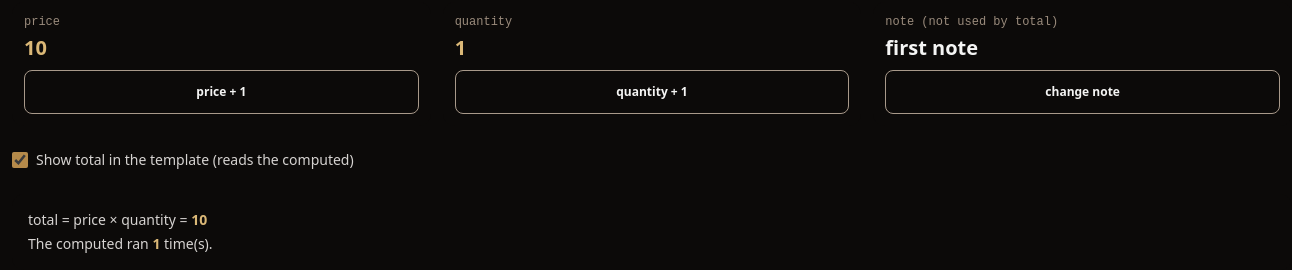
Test: ComputedCacheDemoComponent › does not run again when an unrelated signal changes
This screenshot has width=1292, height=270.
Click the button "change note" at x=1083, y=92, box [885,70,1280,114]
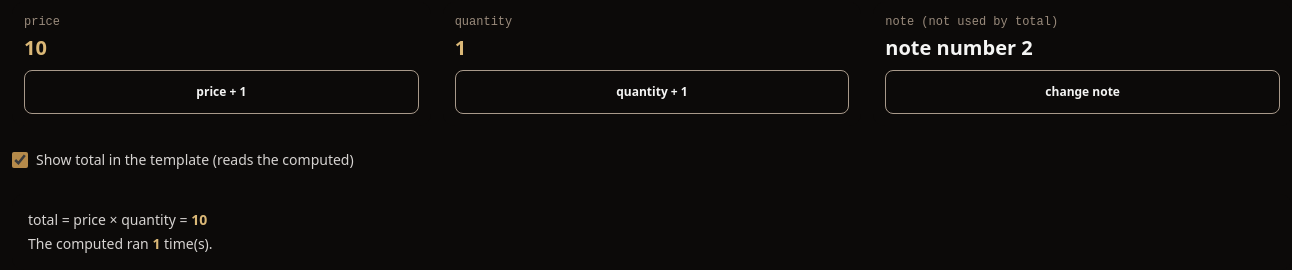
Now the text "note number 2" is shown, box [885,34,1033,61]
